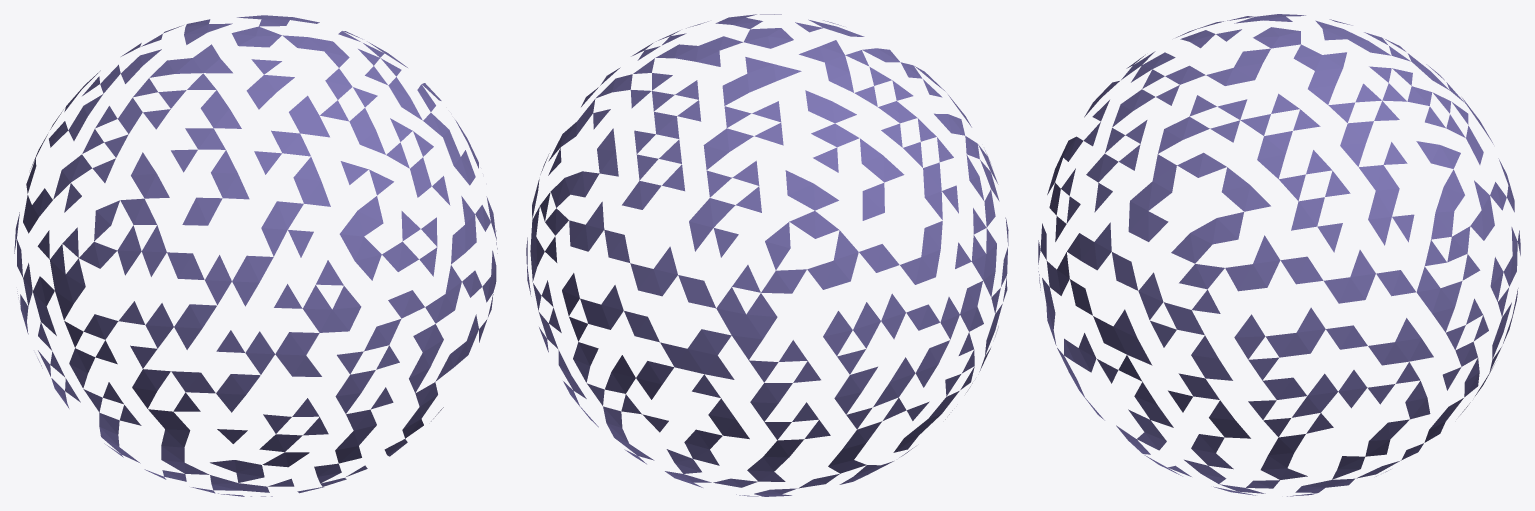
File: toy_marble_a10.glb
3 renders of one model, left to right at view 1: azimuth 30°, elevation 25°; view 2: azimuth 150°, elevation 25°; view 3: azimuth 270°, elevation 25°, orthographic.
Parts seen in each view (by area): view 1: geometry_0; view 2: geometry_0; view 3: geometry_0.
Part boxes in pixels (bbox=[...]): geometry_0: bbox=[14, 15, 497, 496]; geometry_0: bbox=[526, 14, 1008, 496]; geometry_0: bbox=[1038, 14, 1520, 496].
Bounding box in the file's own units: 0.48 × 0.4785 × 0.479.
